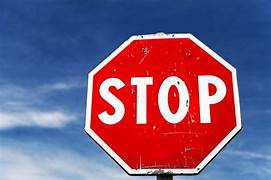stop: (86, 34, 241, 175)
